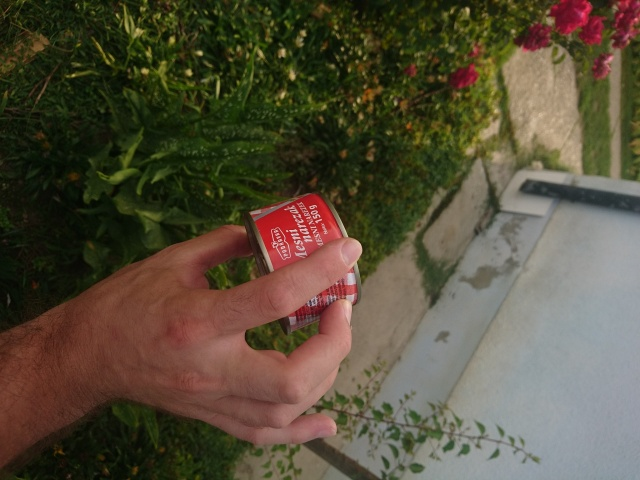Podravka Luncheon Meat 150g: (240, 186, 365, 338)
